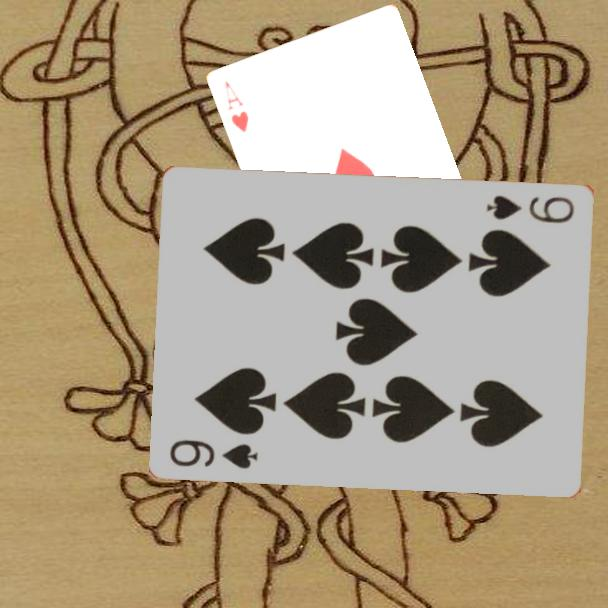h01: (221, 77, 251, 135)
s09: (167, 435, 261, 471), (483, 191, 577, 226)
